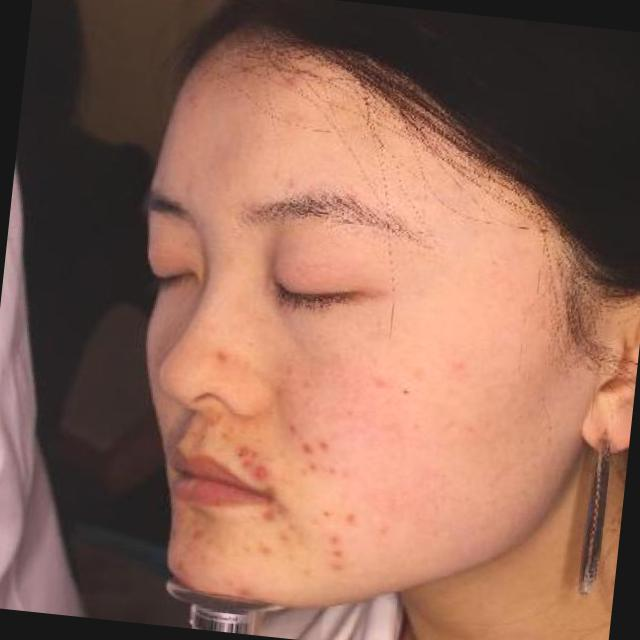darkspot: (276, 519, 313, 551), (368, 372, 390, 396), (298, 436, 322, 458), (342, 506, 364, 530), (232, 580, 258, 600), (187, 526, 211, 546), (211, 344, 233, 365), (300, 457, 320, 478), (324, 528, 346, 546), (326, 543, 348, 561), (174, 554, 192, 576), (286, 417, 304, 437), (262, 507, 280, 525), (258, 543, 278, 559), (316, 436, 332, 452), (325, 462, 339, 478)
nodules: (252, 464, 270, 484)
